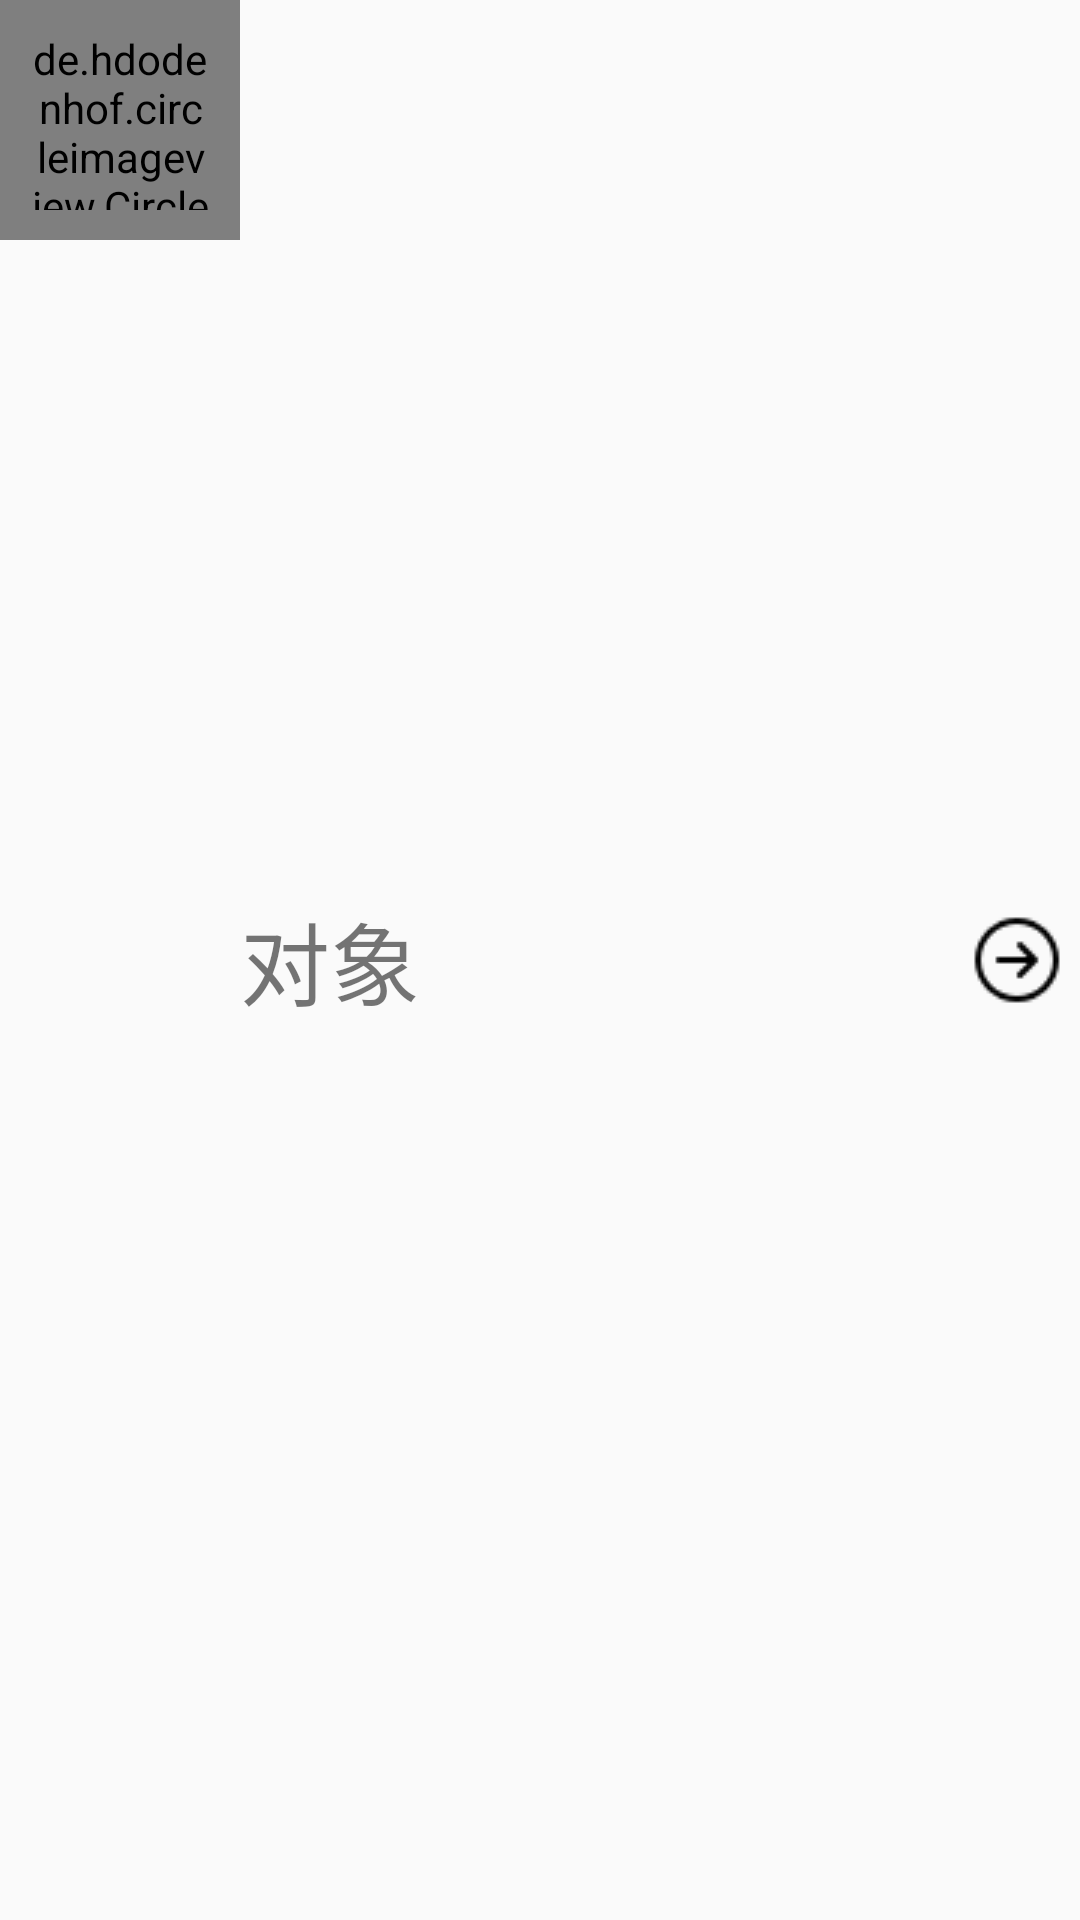

Point at icon controls on the screen. Image size 1080*1920, points as (x=x, y=y).
pullright: (x=1017, y=960)
